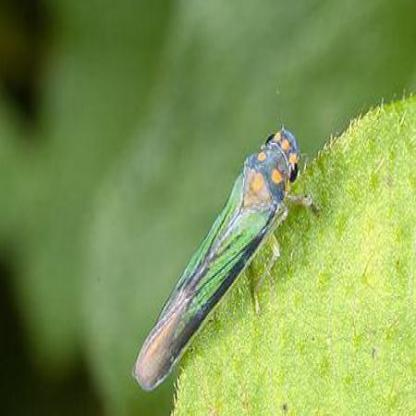green-leafhopper: (130, 124, 324, 388)
